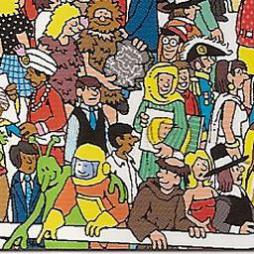wally: (154, 23, 197, 67)
